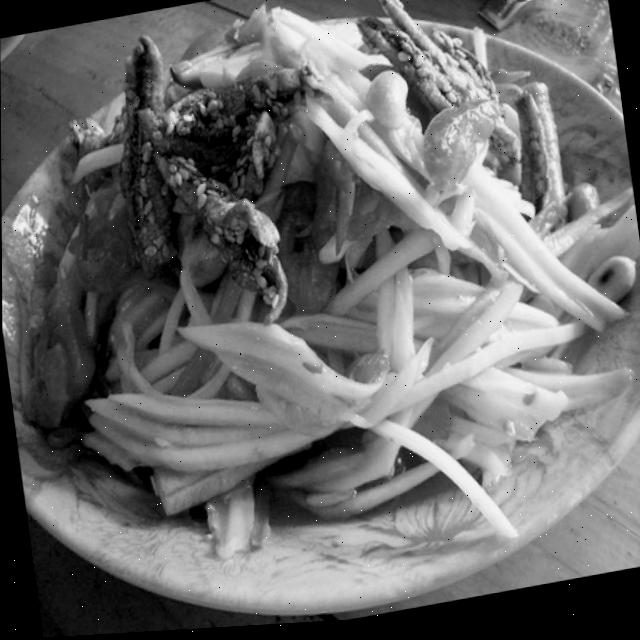蔬菜料理: (0, 0, 640, 622)
